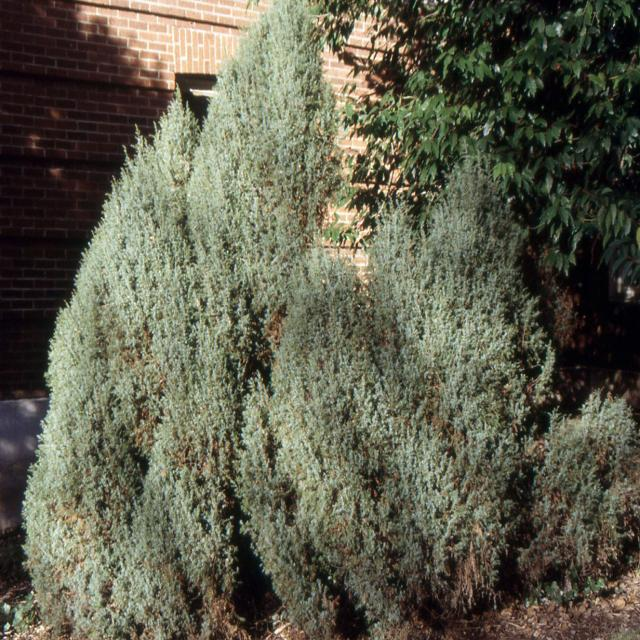Juniperus communis: (25, 84, 268, 640), (154, 1, 364, 634), (338, 110, 546, 640)
